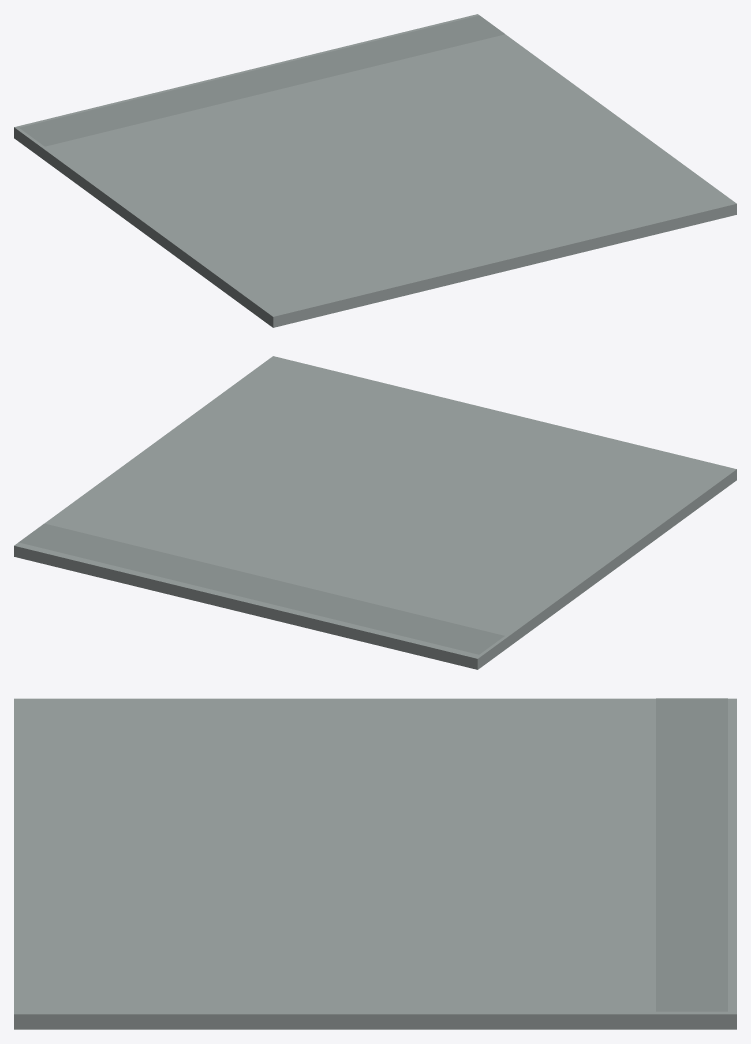
Rendered from lab_postit_blob.glb.
3 views of the same model, one above another, from view 1: azimuth 30°, elevation 25°; view 2: azimuth 150°, elevation 25°; view 3: azimuth 270°, elevation 25° (orthographic). The views are drawn at different scales.
Visible parts, largest first — view 1: block_colored sticky memo, block_adhesive band; view 2: block_colored sticky memo, block_adhesive band; view 3: block_colored sticky memo, block_adhesive band.
Boxes of the visible parts, box(x1,y1,x2,y2) form: block_colored sticky memo: box(14, 14, 736, 327); block_adhesive band: box(19, 15, 504, 146); block_colored sticky memo: box(14, 356, 736, 669); block_adhesive band: box(19, 523, 504, 654); block_colored sticky memo: box(14, 698, 736, 1029); block_adhesive band: box(656, 698, 727, 1011).
Size of the model in its own units: 0.076 by 0.00193 by 0.0736.
1 material, 1 textured.
